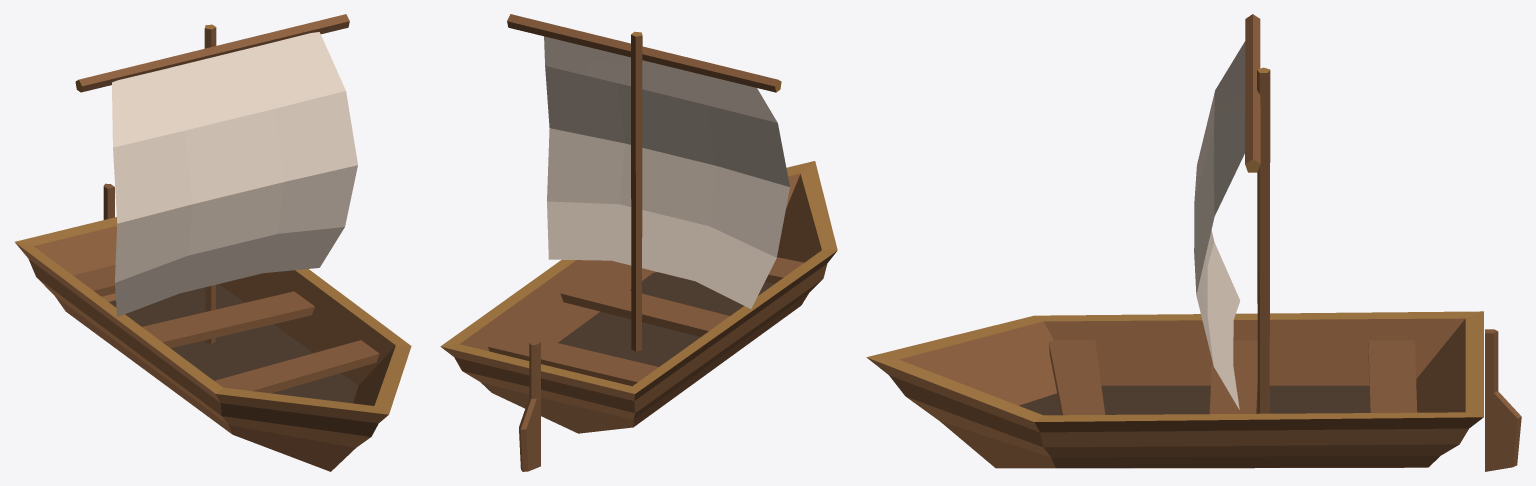
Rendered from boat.glb.
3 renders of one model, left to right at view 1: azimuth 30°, elevation 25°; view 2: azimuth 150°, elevation 25°; view 3: azimuth 270°, elevation 25°, orthographic. The views are drawn at different scales.
Parts seen in each view (by area): view 1: boat; view 2: boat; view 3: boat.
Boxes of the visible parts, x1,y1,x2,y2 form: boat: [15, 14, 411, 471]; boat: [440, 14, 837, 471]; boat: [866, 14, 1521, 471].
Bounding box in the file's own units: 2.54 × 3.25 × 4.83.
1 material, 1 textured.
